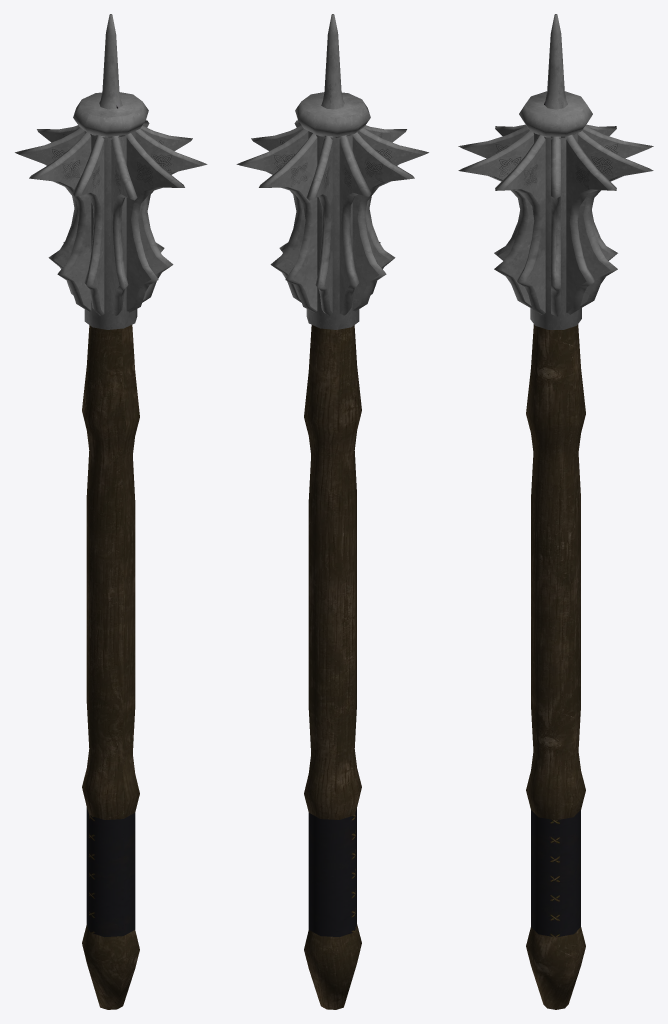
The model's file is mazo guerra glb.draco.glb.
The picture shows the model from 3 angles, left to right: view 1: azimuth 30°, elevation 25°; view 2: azimuth 150°, elevation 25°; view 3: azimuth 270°, elevation 25°; orthographic projection.
Parts seen in each view (by area): view 1: Mace_low; view 2: Mace_low; view 3: Mace_low.
Part boxes in pixels (x1,y1,x2,y2): Mace_low: [15, 14, 207, 1009]; Mace_low: [236, 14, 428, 1009]; Mace_low: [458, 14, 653, 1009].
Bounding box in the file's own units: 0.1323 × 0.7627 × 0.1367.
Materials: 1 (1 with a texture image).
